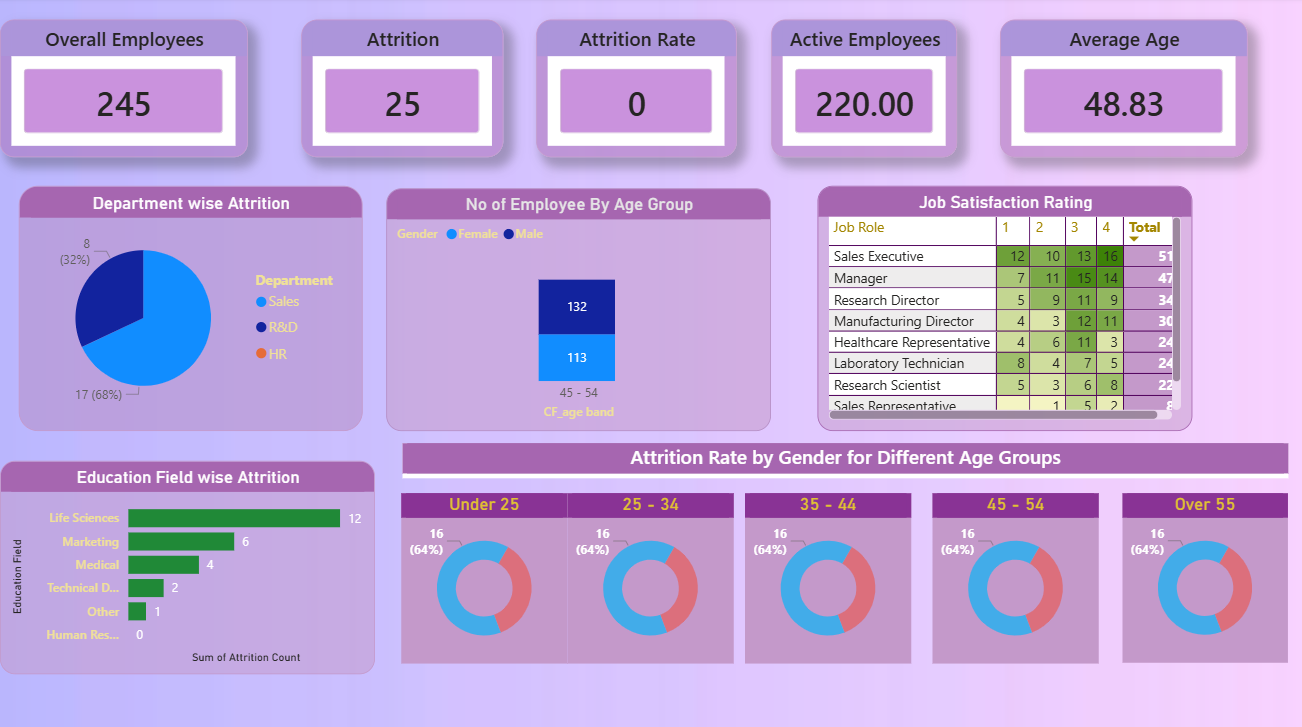

The page's visual inventory and layout, read from the dashboard file:
{"tool":"powerbi","page":{"name":"Page 1","canvas":[1280,720],"ordinal":0},"visuals":[{"type":"cardVisual","title":"Overall Employees","fields":{"Data":["Sum(HR data.Employee Count)"]},"box":[0,22.1,242.9,135],"z":0},{"type":"cardVisual","title":"Attrition","fields":{"Data":["Sum(HR data.Attrition Count)"]},"box":[296,21.6,198.3,135.1],"z":1000},{"type":"cardVisual","title":"Attrition Rate","fields":{"Data":["HR data.Attrition Rate"]},"box":[525.9,21.6,196.9,135.1],"z":2000},{"type":"cardVisual","title":"Active Employees","fields":{"Data":["HR data.Active Employees"]},"box":[757.3,21.6,182.5,135.1],"z":3000},{"type":"cardVisual","title":"Average Age","fields":{"Data":["Avg(HR data.Age)"]},"box":[981.4,21.6,242.8,135.1],"z":4000},{"type":"pieChart","title":"Department wise Attrition","fields":{"Category":["HR data.Department"],"Y":["Sum(HR data.Attrition Count)"]},"box":[18.4,185.3,337.4,240.5],"z":5000},{"type":"columnChart","title":"No of Employee By Age Group","fields":{"Category":["HR data.CF_age band"],"Y":["Sum(HR data.Employee Count)"],"Series":["HR data.Gender"]},"box":[379.1,187.7,377.9,238],"z":6000},{"type":"pivotTable","title":"Job Satisfaction Rating","fields":{"Rows":["HR data.Job Role"],"Columns":["HR data.Job Satisfaction"],"Values":["Sum(HR data.Employee Count)"]},"box":[802.5,185.3,368.1,240.5],"z":7000},{"type":"clusteredBarChart","title":"Education Field wise Attrition","fields":{"Category":["HR data.Education Field"],"Y":["Sum(HR data.Attrition Count)"]},"box":[0,455.2,368.1,209.8],"z":8000},{"type":"textbox","title":"Attrition Rate by Gender for Different Age Groups","box":[395.1,438,869.9,34.4],"z":10000},{"type":"donutChart","title":"Over 55","fields":{"Category":["HR data.Gender"],"Y":["Sum(HR data.Attrition Count)"],"Series":["HR data.CF_age band"]},"box":[1102.1,487.1,162.4,166.7],"z":14000},{"type":"donutChart","title":"45 - 54","fields":{"Category":["HR data.Gender"],"Y":["Sum(HR data.Attrition Count)"],"Series":["HR data.CF_age band"]},"box":[915.3,487.1,163.3,167.4],"z":14001},{"type":"donutChart","title":"35 - 44","fields":{"Category":["HR data.Gender"],"Y":["Sum(HR data.Attrition Count)"],"Series":["HR data.CF_age band"]},"box":[731.4,487.1,163.3,167.4],"z":14002},{"type":"donutChart","title":"25 - 34","fields":{"Category":["HR data.Gender"],"Y":["Sum(HR data.Attrition Count)"],"Series":["HR data.CF_age band"]},"box":[557.1,487.1,163.3,167.4],"z":14003},{"type":"donutChart","title":"Under 25","fields":{"Category":["HR data.Gender"],"Y":["Sum(HR data.Attrition Count)"],"Series":["HR data.CF_age band"]},"box":[393.8,487.1,163.3,167.4],"z":14004}]}

Visuals, with their boxes in screenshot pixels (x1, y1, x2, y2), scaled from the page's 1280x720 canvas onto the 1302x727 screenshot:
"Overall Employees" cardVisual: bbox(0, 22, 247, 159)
"Attrition" cardVisual: bbox(301, 22, 503, 158)
"Attrition Rate" cardVisual: bbox(535, 22, 735, 158)
"Active Employees" cardVisual: bbox(770, 22, 956, 158)
"Average Age" cardVisual: bbox(998, 22, 1245, 158)
"Department wise Attrition" pieChart: bbox(19, 187, 362, 430)
"No of Employee By Age Group" columnChart: bbox(386, 190, 770, 430)
"Job Satisfaction Rating" pivotTable: bbox(816, 187, 1191, 430)
"Education Field wise Attrition" clusteredBarChart: bbox(0, 460, 374, 671)
"Attrition Rate by Gender for Different Age Groups" textbox: bbox(402, 442, 1287, 477)
"Over 55" donutChart: bbox(1121, 492, 1286, 660)
"45 - 54" donutChart: bbox(931, 492, 1097, 661)
"35 - 44" donutChart: bbox(744, 492, 910, 661)
"25 - 34" donutChart: bbox(567, 492, 733, 661)
"Under 25" donutChart: bbox(401, 492, 567, 661)
